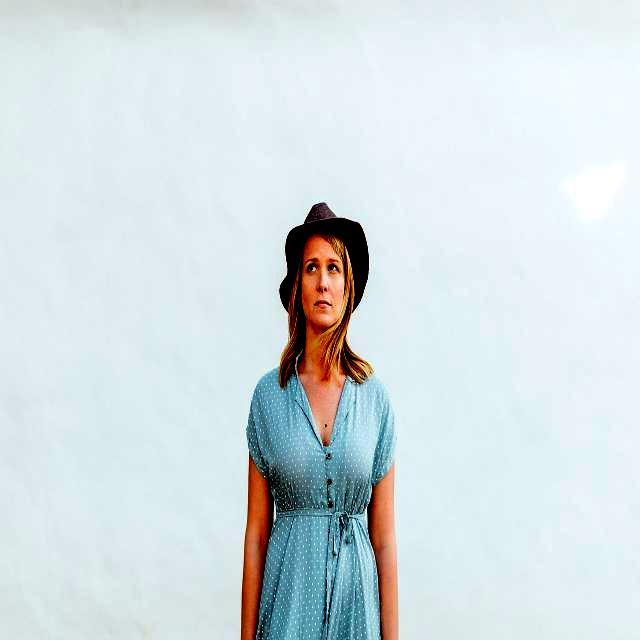no_hard_hat: (280, 203, 368, 311)
person: (242, 231, 398, 638)
